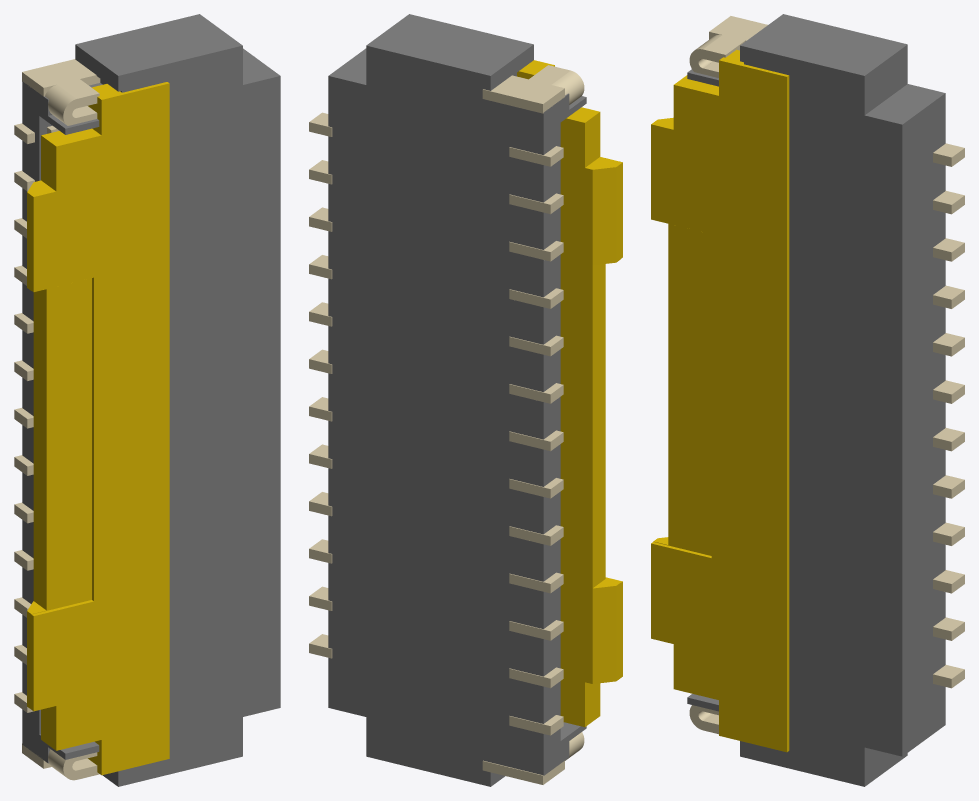
Rendered from Hirose_FH26-25S-0.3SHW_2Rows-25Pins-1MP_P0.60mm_Horizontal.glb.
The picture shows the model from 3 angles, left to right: view 1: azimuth 30°, elevation 25°; view 2: azimuth 150°, elevation 25°; view 3: azimuth 330°, elevation 25°; orthographic projection.
Parts seen in each view (by area): view 1: Shape_IndexedFaceSet.004, Shape_IndexedFaceSet.031, Shape_IndexedFaceSet.034, Shape_IndexedFaceSet.014, Shape_IndexedFaceSet.001, Shape_IndexedFaceSet.049, Shape_IndexedFaceSet.240, Shape_IndexedFaceSet.046, Shape_IndexedFaceSet.002, Shape_IndexedFaceSet.005, Shape_IndexedFaceSet.044, Shape_IndexedFaceSet.029 (+6 smaller); view 2: Shape_IndexedFaceSet.003, Shape_IndexedFaceSet.032, Shape_IndexedFaceSet.014, Shape_IndexedFaceSet.001, Shape_IndexedFaceSet.049, Shape_IndexedFaceSet.050, Shape_IndexedFaceSet.030, Shape_IndexedFaceSet.240, Shape_IndexedFaceSet.002, Shape_IndexedFaceSet.046, Shape_IndexedFaceSet.005, Shape_IndexedFaceSet.044 (+5 smaller); view 3: Shape_IndexedFaceSet.004, Shape_IndexedFaceSet.031, Shape_IndexedFaceSet.006, Shape_IndexedFaceSet.034, Shape_IndexedFaceSet.001, Shape_IndexedFaceSet.038, Shape_IndexedFaceSet, Shape_IndexedFaceSet.002, Shape_IndexedFaceSet.240, Shape_IndexedFaceSet.008, Shape_IndexedFaceSet.217.
Boxes of the visible parts, box(x1,y1,x2,y2) form: Shape_IndexedFaceSet.004: box(65, 45, 280, 786); Shape_IndexedFaceSet.031: box(33, 83, 169, 775); Shape_IndexedFaceSet.034: box(31, 278, 91, 614); Shape_IndexedFaceSet.014: box(22, 81, 65, 762); Shape_IndexedFaceSet.001: box(75, 14, 242, 75); Shape_IndexedFaceSet.049: box(33, 289, 46, 610); Shape_IndexedFaceSet.240: box(22, 59, 99, 98); Shape_IndexedFaceSet.046: box(41, 135, 56, 190); Shape_IndexedFaceSet.002: box(243, 48, 280, 84); Shape_IndexedFaceSet.005: box(75, 45, 118, 91); Shape_IndexedFaceSet.044: box(27, 192, 33, 291); Shape_IndexedFaceSet.029: box(27, 611, 33, 710); Shape_IndexedFaceSet.003: box(328, 45, 543, 786); Shape_IndexedFaceSet.032: box(517, 71, 592, 727); Shape_IndexedFaceSet.014: box(543, 94, 586, 775); Shape_IndexedFaceSet.001: box(366, 14, 533, 75); Shape_IndexedFaceSet.049: box(592, 264, 605, 587); Shape_IndexedFaceSet.050: box(592, 167, 616, 265); Shape_IndexedFaceSet.030: box(592, 586, 616, 683); Shape_IndexedFaceSet.240: box(483, 65, 570, 103); Shape_IndexedFaceSet.002: box(328, 48, 366, 84); Shape_IndexedFaceSet.046: box(585, 112, 600, 167); Shape_IndexedFaceSet.005: box(490, 44, 533, 90); Shape_IndexedFaceSet.044: box(616, 162, 622, 262); Shape_IndexedFaceSet.004: box(687, 45, 902, 786); Shape_IndexedFaceSet.031: box(651, 60, 786, 752); Shape_IndexedFaceSet.006: box(902, 93, 945, 756); Shape_IndexedFaceSet.034: box(653, 224, 711, 555); Shape_IndexedFaceSet.001: box(740, 14, 907, 75); Shape_IndexedFaceSet.038: box(787, 75, 789, 751); Shape_IndexedFaceSet: box(864, 45, 907, 114); Shape_IndexedFaceSet.002: box(865, 84, 944, 124); Shape_IndexedFaceSet.240: box(703, 16, 767, 54); Shape_IndexedFaceSet.008: box(864, 747, 907, 786); Shape_IndexedFaceSet.217: box(689, 49, 725, 77).
Size of the model in its own units: 1.4 by 3.54 by 0.4135.
